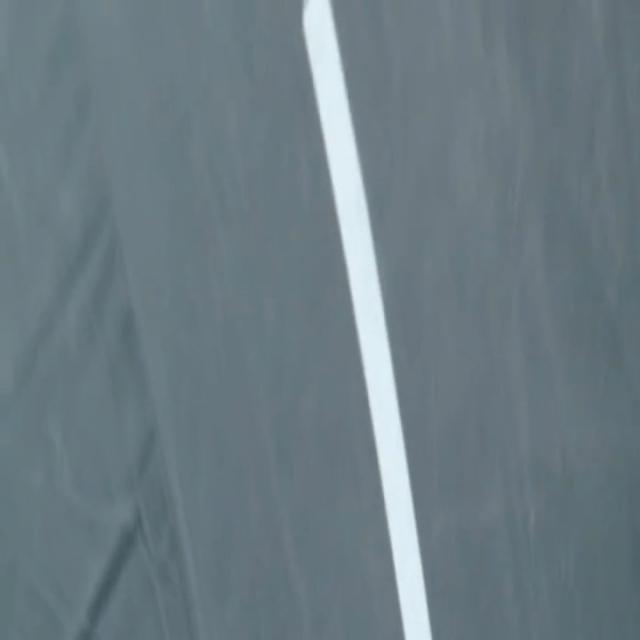center: (303, 0, 432, 639)
